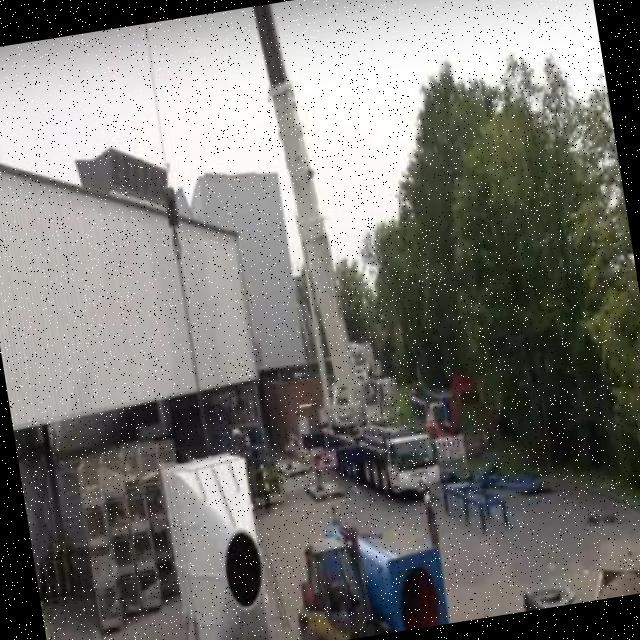Mobile Crane: (208, 0, 446, 510)
